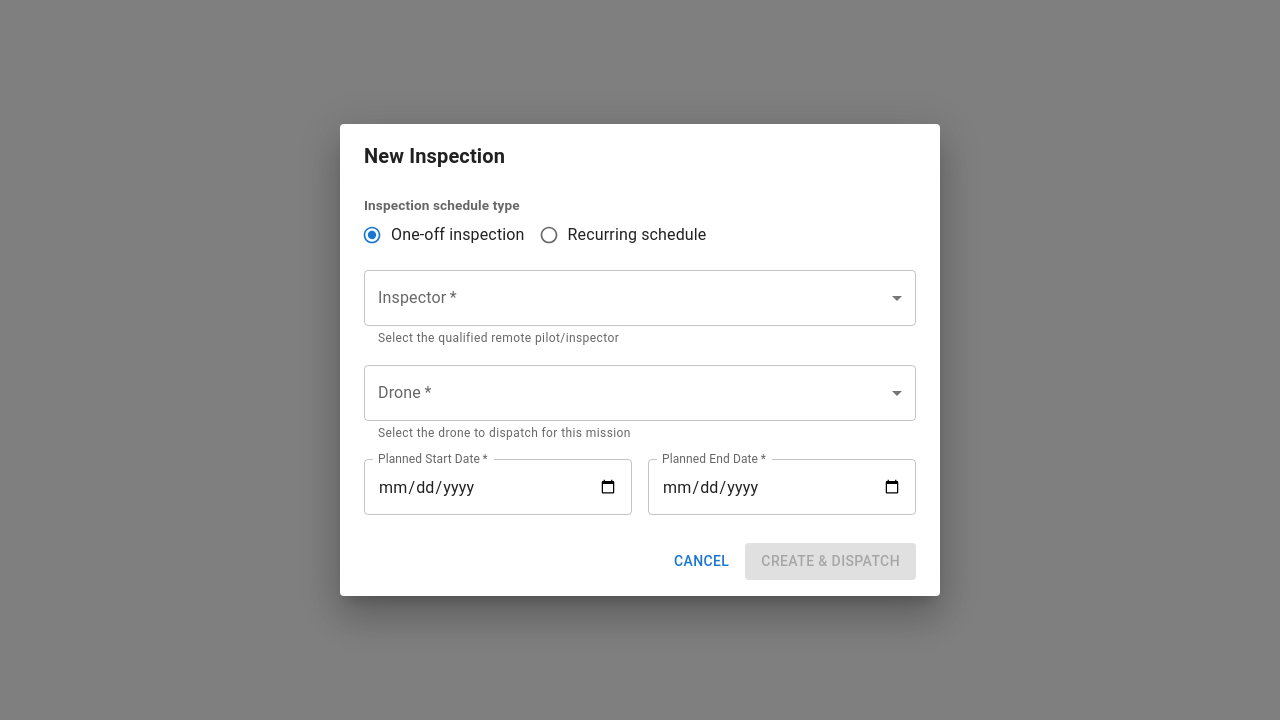
Test: CreateInspectionDialog › switches to recurring schedule and shows recurrence options
Expected: the radio button labelled "One-off inspection" is shown, [362,225,525,245]
Step 1. Click the radio button labelled "Recurring schedule" → [623, 235], box [539,225,706,245]
(page scrolled)
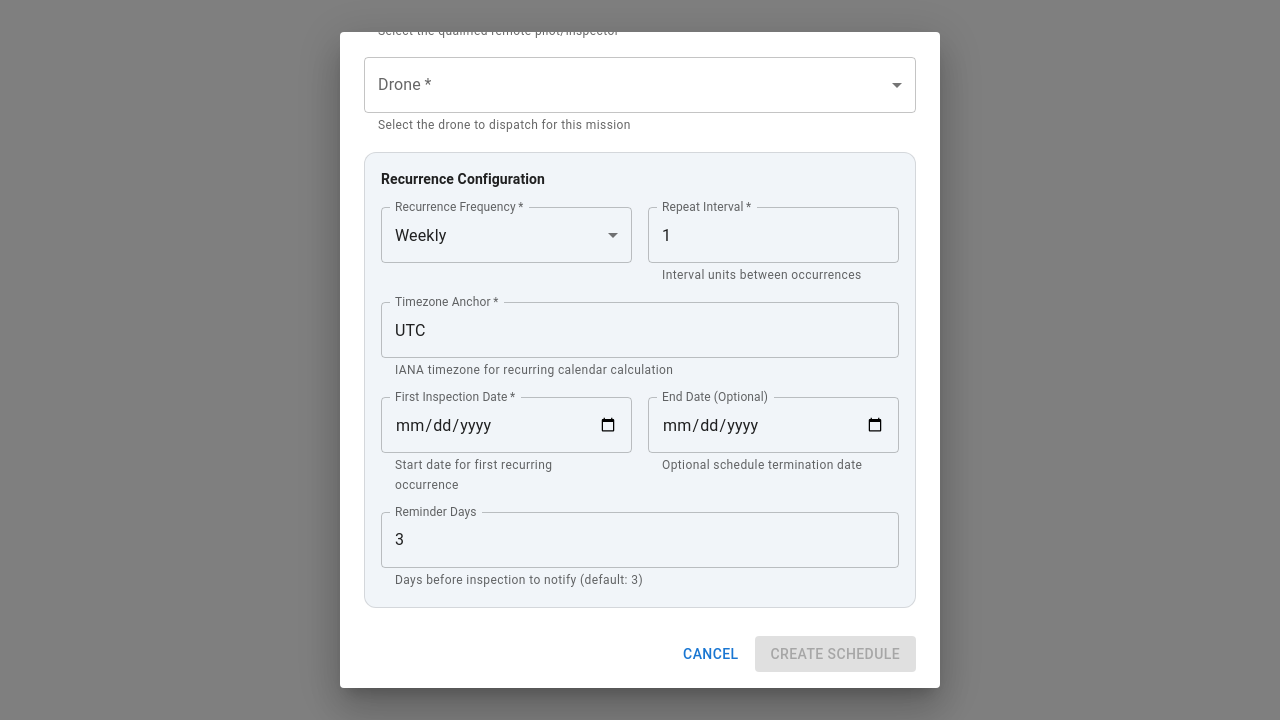
Result: the dropdown named "Recurrence Frequency" is shown at [395,226,446,245]
Result: the number field labelled "Repeat Interval *" is shown at [648,207,899,263]
Result: the field labelled "Timezone Anchor *" is shown at [381,302,899,358]
